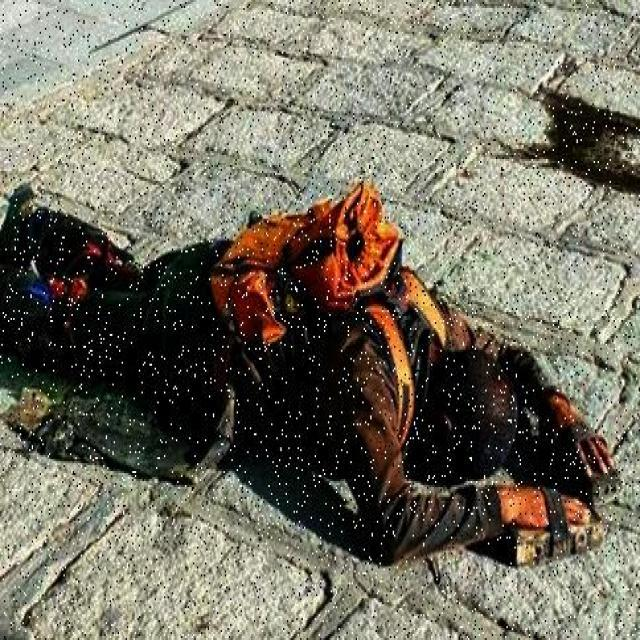fall: (3, 185, 611, 546)
